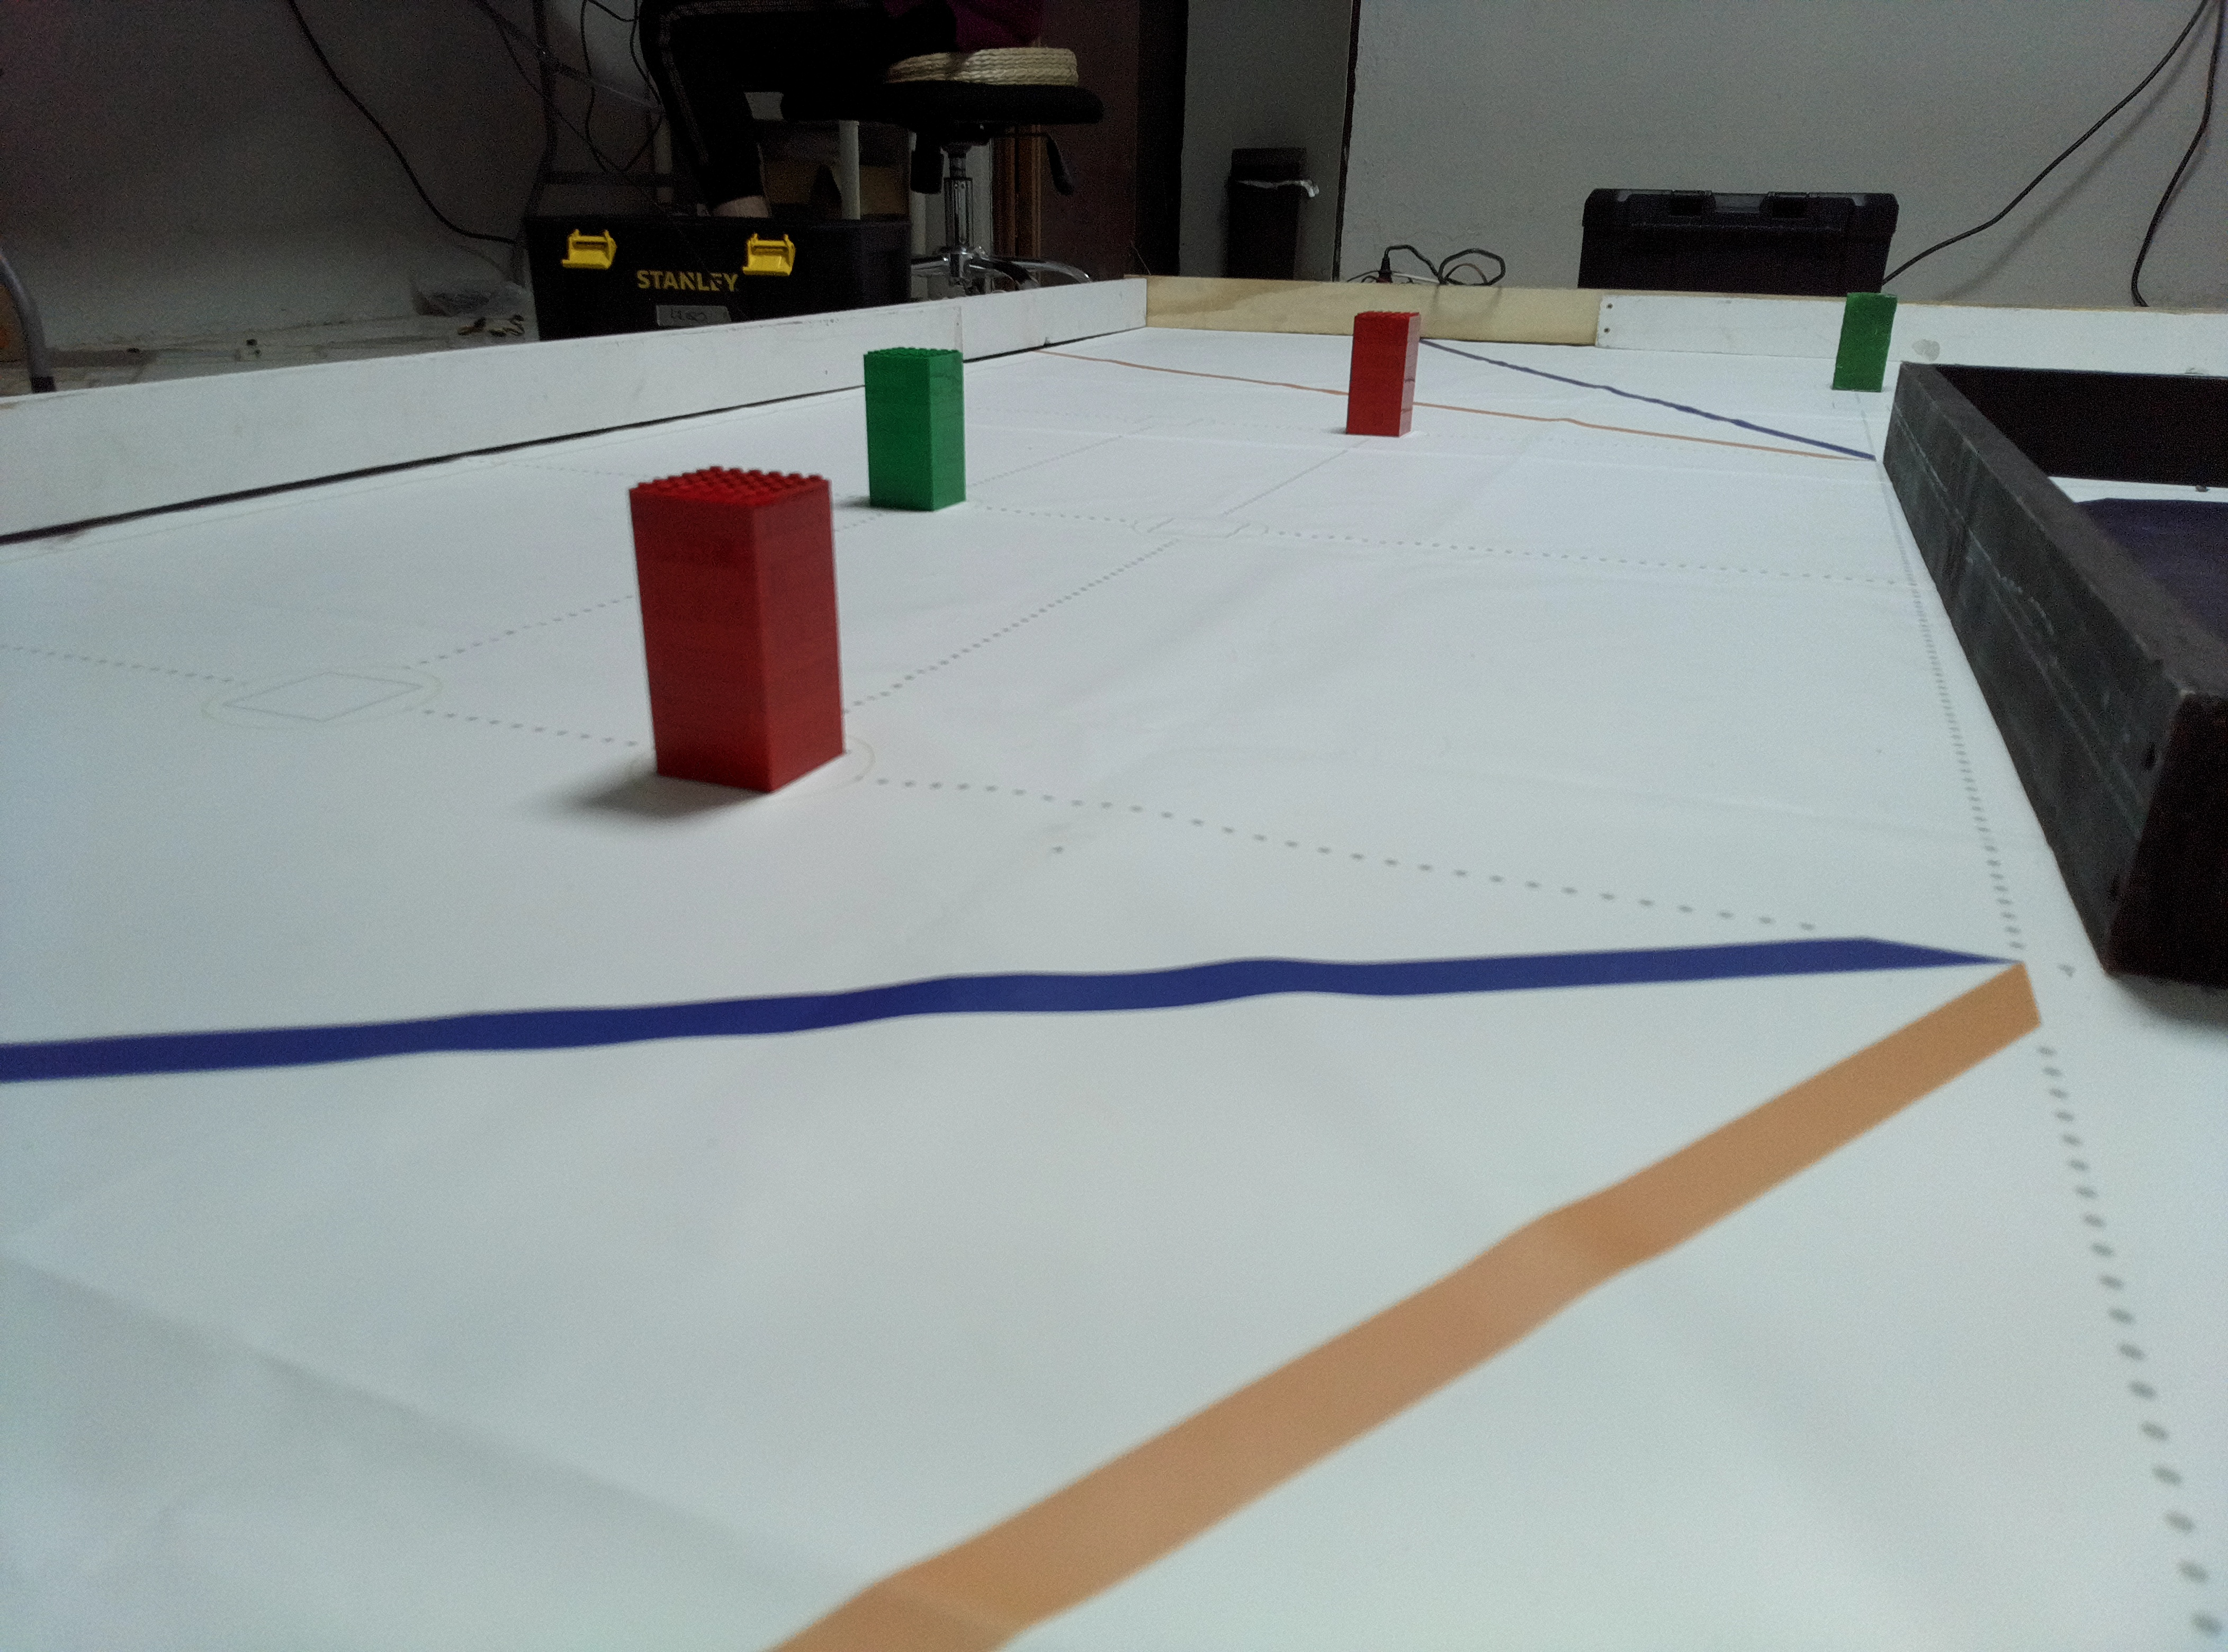greenbox: (861, 342, 968, 515), (1827, 292, 1900, 394)
redbox: (623, 460, 852, 800), (1341, 304, 1423, 441)
